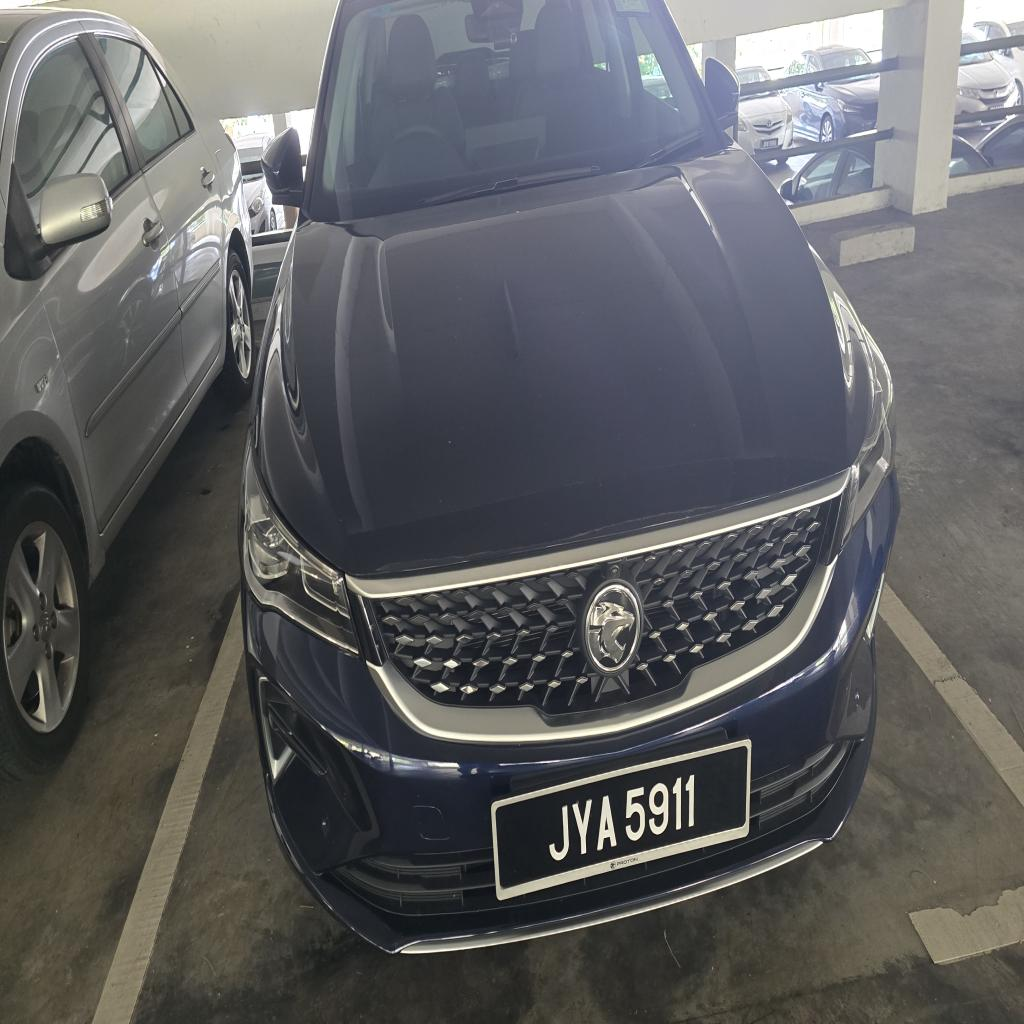car: (240, 0, 898, 952)
car plate: (492, 740, 751, 900)
